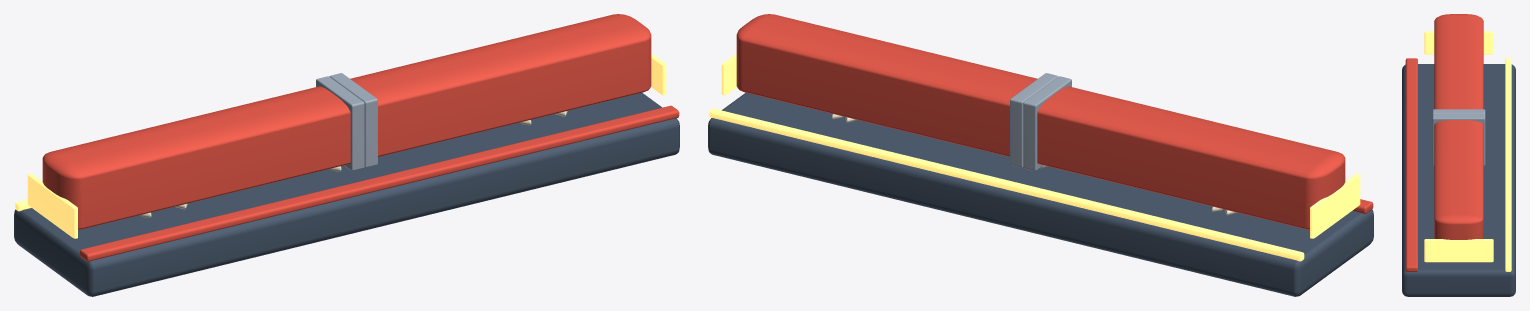
File: AFJ_Modular_Gate_Core_2Units.fbx
3 views of the same model, side by side, from view 1: azimuth 30°, elevation 25°; view 2: azimuth 150°, elevation 25°; view 3: azimuth 270°, elevation 25° (orthographic). The views are drawn at different scales.
Parts seen in each view (by area): view 1: Threshold.003, Door_Left_Mesh.003, Door_Right_Mesh.003, Threshold_ColorStrip.003, Left_InnerLight.003, Gate_Metal_Joint_Left.001, Gate_Metal_Joint_Right.001, Right_InnerLight.003; view 2: Threshold.003, Door_Left_Mesh.003, Door_Right_Mesh.003, Exit_Edge.003, Left_InnerLight.003, Gate_Metal_Joint_Left.001, Gate_Metal_Joint_Right.001, Right_InnerLight.003; view 3: Threshold.003, Door_Right_Mesh.003, Door_Left_Mesh.003, Threshold_ColorStrip.003, Right_InnerLight.003, Exit_Edge.003, Gate_Metal_Joint_Right.001, Left_InnerLight.003, Gate_Metal_Joint_Left.001.
Boxes of the visible parts, x1=… form: Threshold.003: x1=14, y1=93, x2=679, y2=296; Door_Left_Mesh.003: x1=42, y1=86, x2=350, y2=229; Door_Right_Mesh.003: x1=350, y1=14, x2=651, y2=156; Threshold_ColorStrip.003: x1=79, y1=105, x2=679, y2=261; Left_InnerLight.003: x1=27, y1=173, x2=77, y2=238; Gate_Metal_Joint_Left.001: x1=316, y1=76, x2=364, y2=170; Gate_Metal_Joint_Right.001: x1=329, y1=73, x2=377, y2=167; Right_InnerLight.003: x1=651, y1=53, x2=666, y2=95; Threshold.003: x1=708, y1=93, x2=1373, y2=296; Door_Left_Mesh.003: x1=1037, y1=86, x2=1345, y2=229; Door_Right_Mesh.003: x1=736, y1=14, x2=1037, y2=156; Exit_Edge.003: x1=709, y1=108, x2=1304, y2=261; Left_InnerLight.003: x1=1310, y1=173, x2=1360, y2=238; Gate_Metal_Joint_Left.001: x1=1023, y1=76, x2=1071, y2=170; Gate_Metal_Joint_Right.001: x1=1010, y1=73, x2=1058, y2=167; Right_InnerLight.003: x1=721, y1=53, x2=736, y2=95; Threshold.003: x1=1402, y1=64, x2=1515, y2=296; Door_Right_Mesh.003: x1=1434, y1=120, x2=1483, y2=239; Door_Left_Mesh.003: x1=1434, y1=14, x2=1483, y2=109; Threshold_ColorStrip.003: x1=1405, y1=58, x2=1417, y2=271; Right_InnerLight.003: x1=1424, y1=239, x2=1493, y2=262; Exit_Edge.003: x1=1505, y1=58, x2=1511, y2=271; Gate_Metal_Joint_Right.001: x1=1432, y1=114, x2=1485, y2=165; Left_InnerLight.003: x1=1424, y1=31, x2=1493, y2=54; Gate_Metal_Joint_Left.001: x1=1432, y1=109, x2=1485, y2=114.
Bounding box in the file's own units: 200 × 35.75 × 46.
